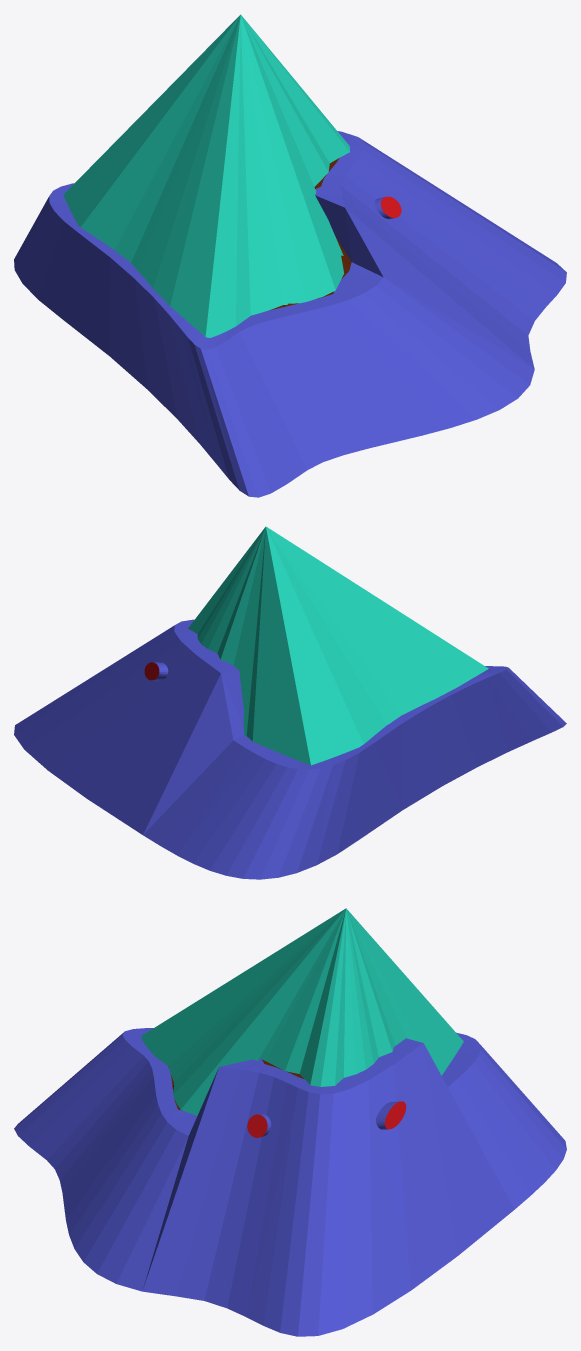
File: spikeSlug.dae
The picture shows the model from 3 angles, top to bottom: view 1: azimuth 30°, elevation 25°; view 2: azimuth 150°, elevation 25°; view 3: azimuth 270°, elevation 25°; orthographic projection. The views are drawn at different scales.
Parts seen in each view (by area): view 1: Cone; view 2: Cone; view 3: Cone.
Part boxes in pixels (bbox=[...]): Cone: bbox=[14, 14, 566, 497]; Cone: bbox=[14, 526, 566, 879]; Cone: bbox=[14, 908, 566, 1336].
Bounding box in the file's own units: 6.15 × 6.7 × 4.56.
